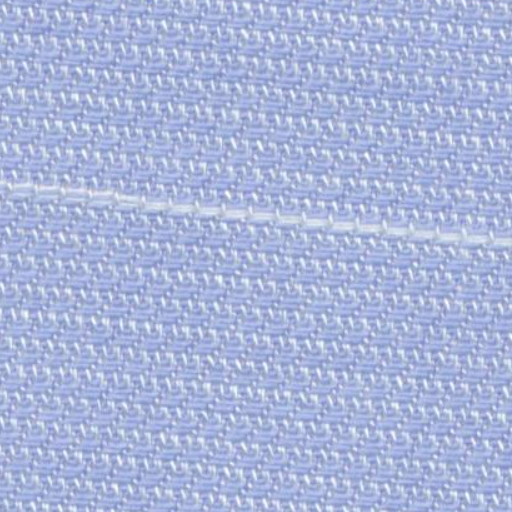TuoSha: (14, 168, 500, 270)
